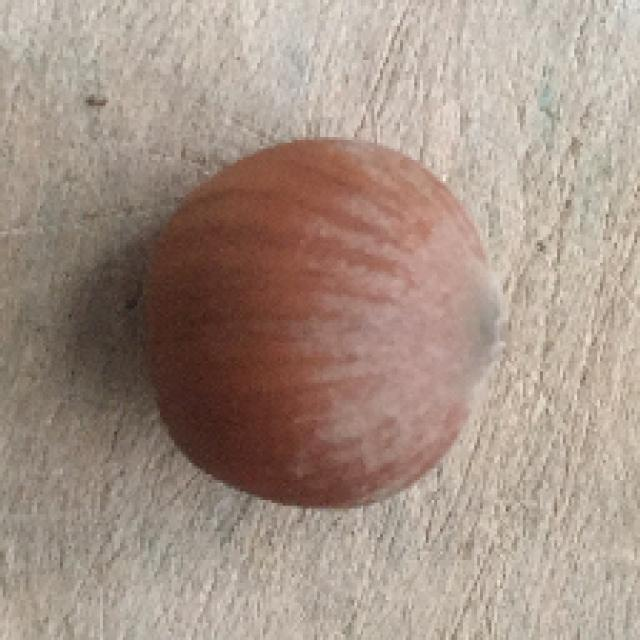qualityHazelnut: (116, 128, 507, 513)
